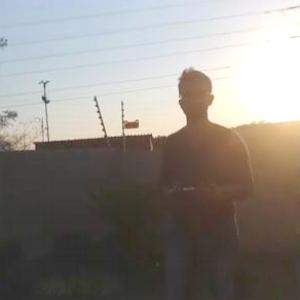follow: (153, 63, 259, 299)
